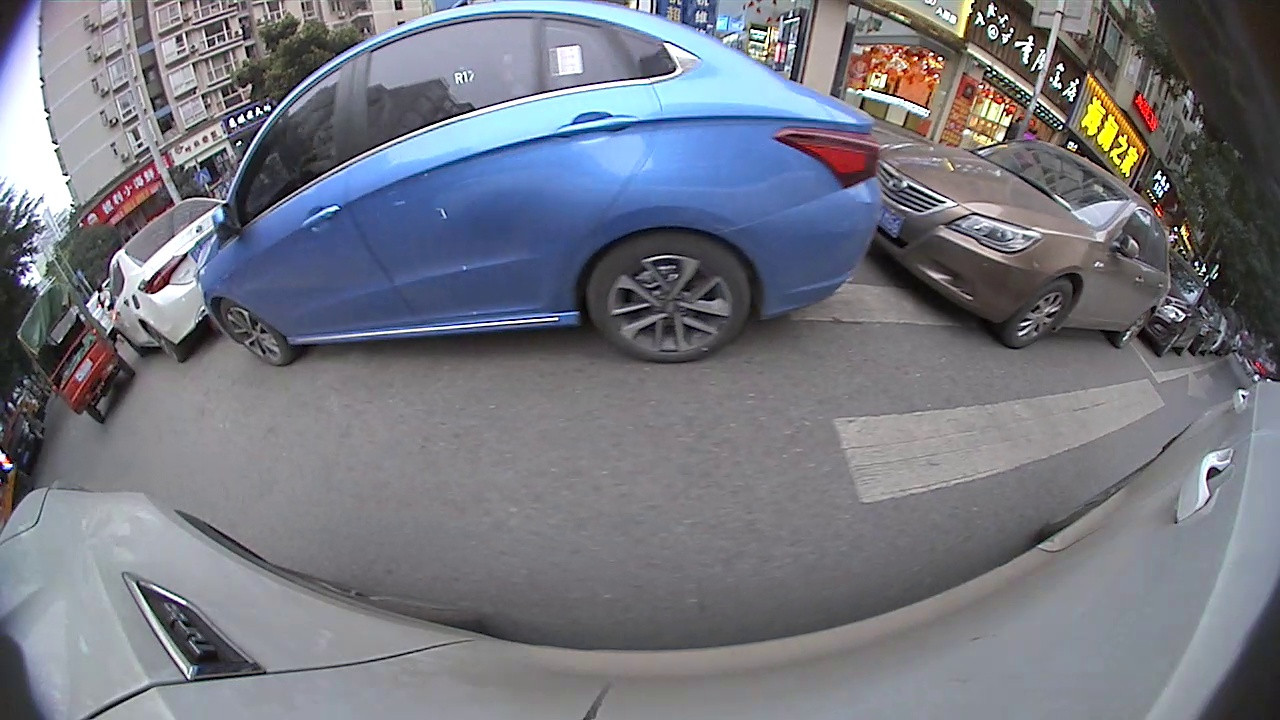car: (195, 2, 885, 371), (872, 134, 1173, 353), (107, 193, 238, 364), (1141, 251, 1211, 360)
front: (212, 300, 294, 368), (1007, 274, 1078, 351)
rear: (589, 236, 757, 363), (1120, 299, 1155, 352)
rider: (14, 272, 136, 426)
